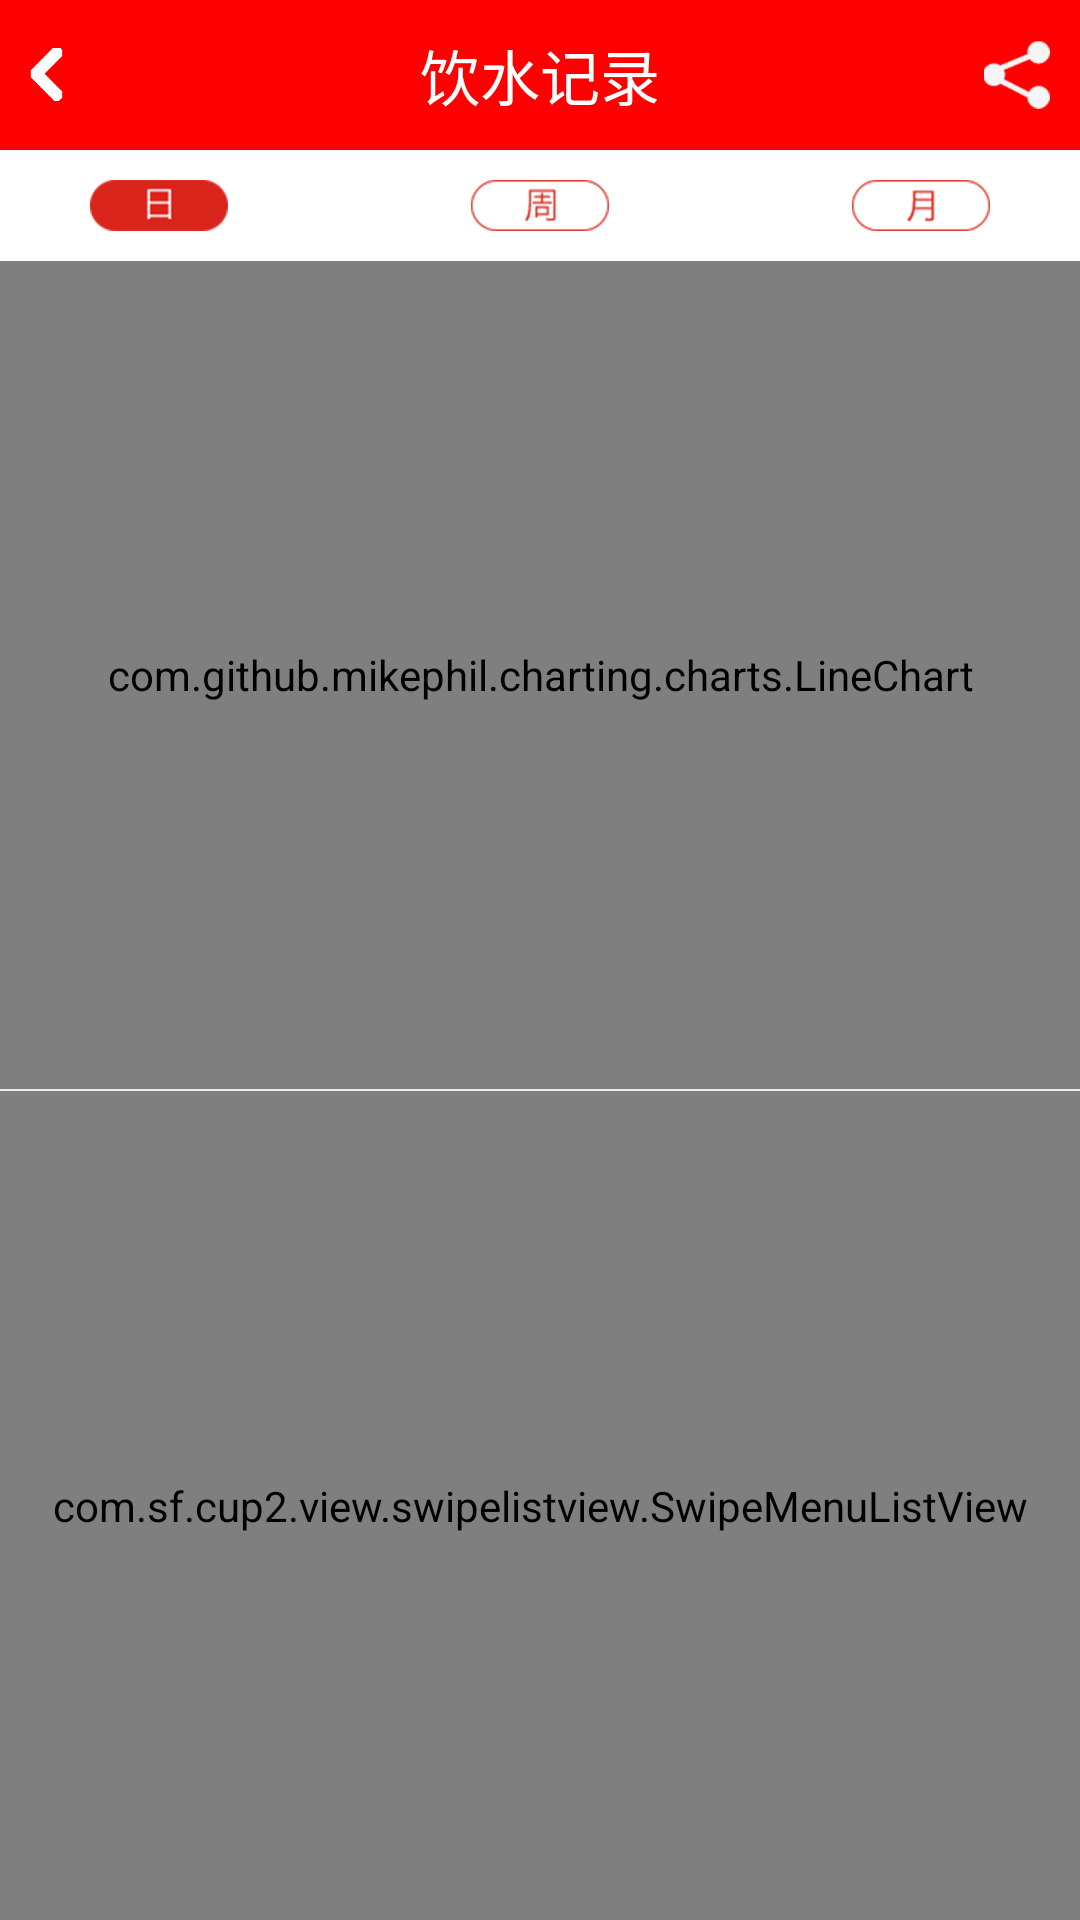

Point at icon controls on the screen. Image size 1080 × 1920, points as (x=x, y=y).
bar back: (x=46, y=74)
share: (x=1017, y=75)
